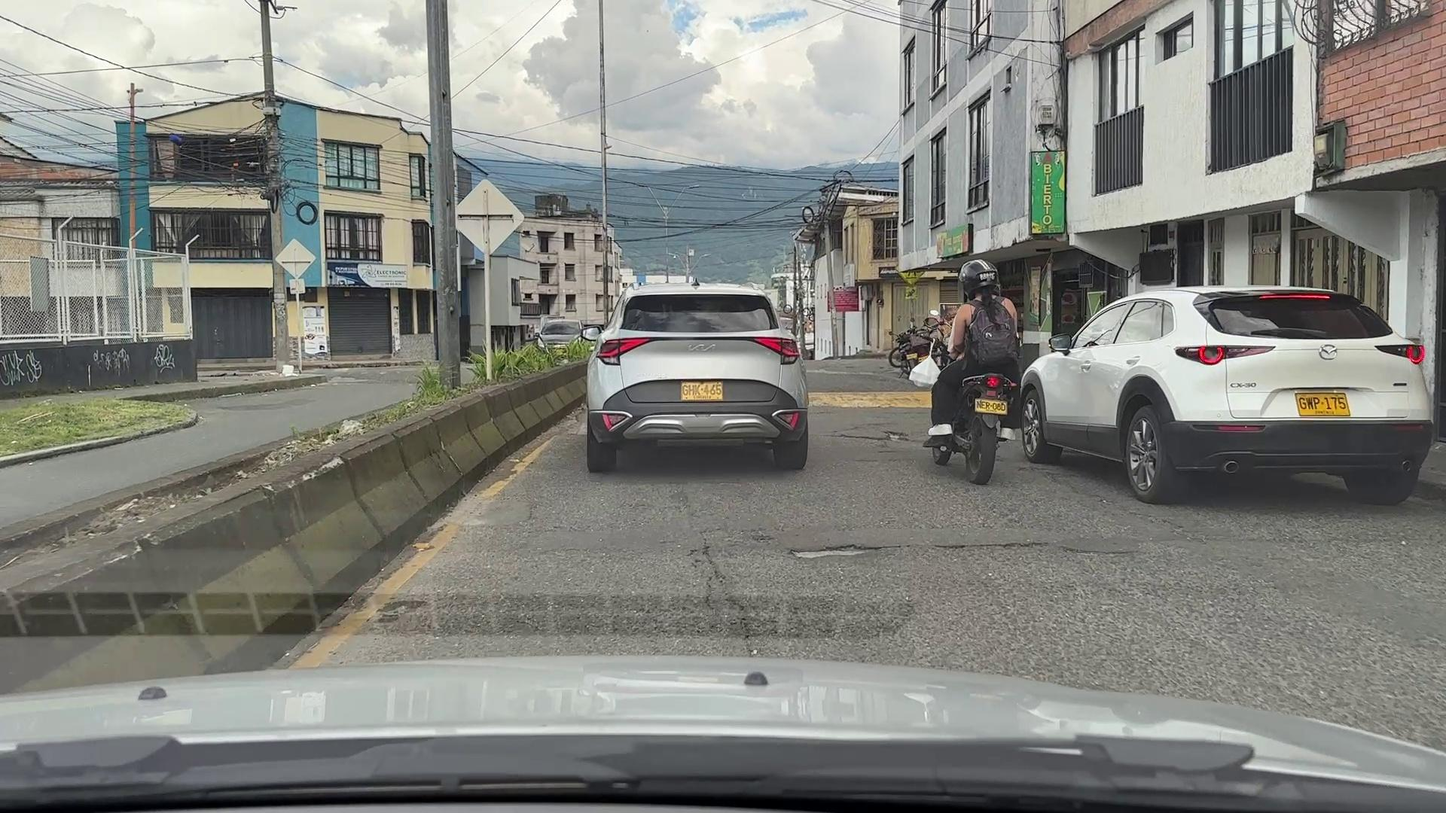bache: (791, 544, 901, 558), (380, 600, 426, 617), (840, 431, 910, 440)
grieta: (934, 542, 1049, 549)
